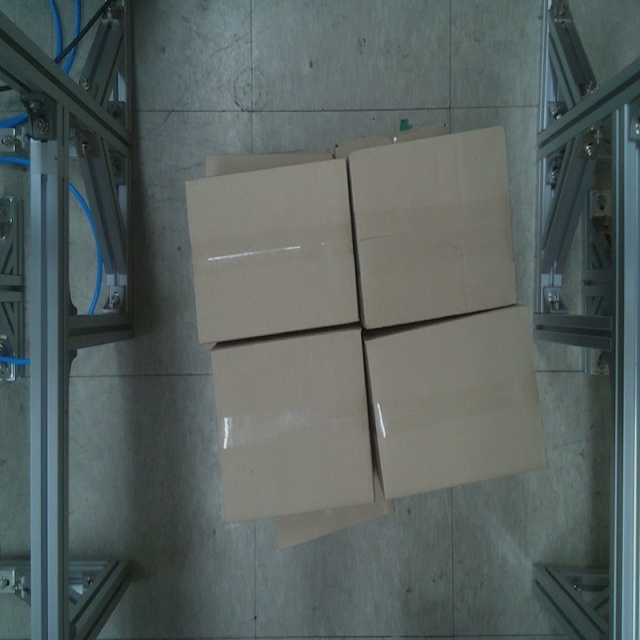box: (346, 120, 523, 331), (365, 303, 549, 501), (181, 155, 360, 345), (208, 325, 376, 525)
